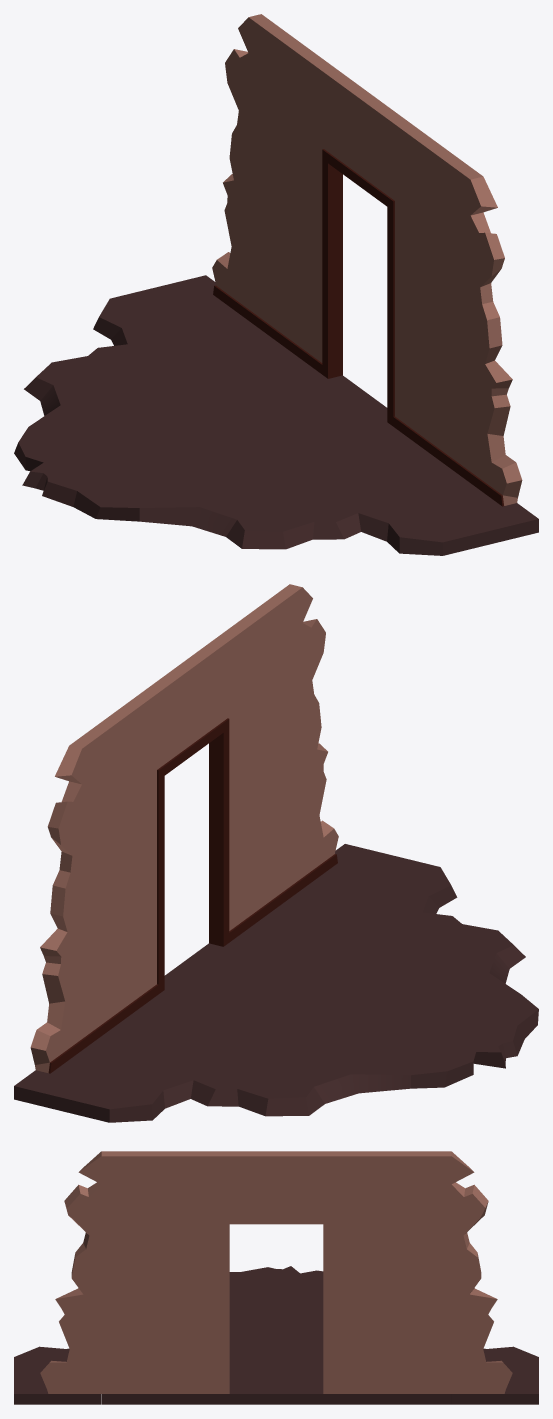
Rendered from Etage4_Fin.fbx.
3 views of the same model, one above another, from view 1: azimuth 30°, elevation 25°; view 2: azimuth 150°, elevation 25°; view 3: azimuth 270°, elevation 25° (orthographic). The views are drawn at different scales.
Visible parts, largest first — view 1: Etage4_Fin; view 2: Etage4_Fin; view 3: Etage4_Fin.
Part boxes in pixels (x1,y1,x2,y2): Etage4_Fin: [14, 14, 538, 555]; Etage4_Fin: [14, 584, 538, 1122]; Etage4_Fin: [14, 1151, 538, 1404].
Bounding box in the file's own units: 353 × 313 × 600.
